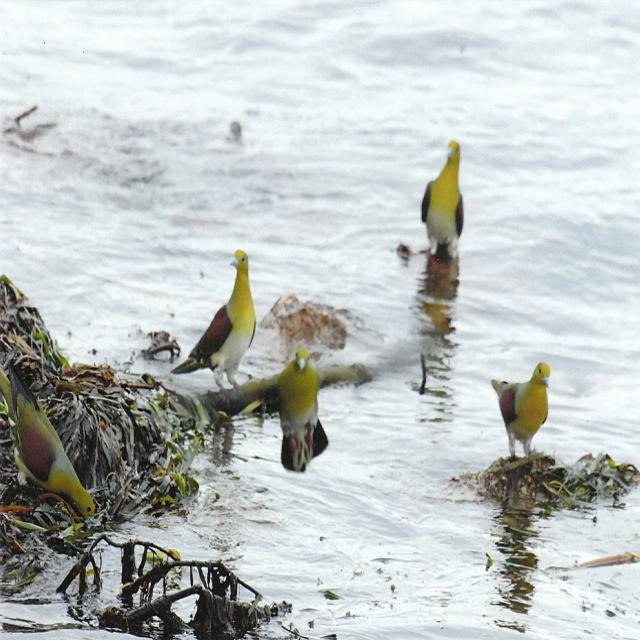bird: (146, 248, 261, 400), (240, 348, 328, 473), (486, 362, 556, 496), (417, 142, 466, 270)
